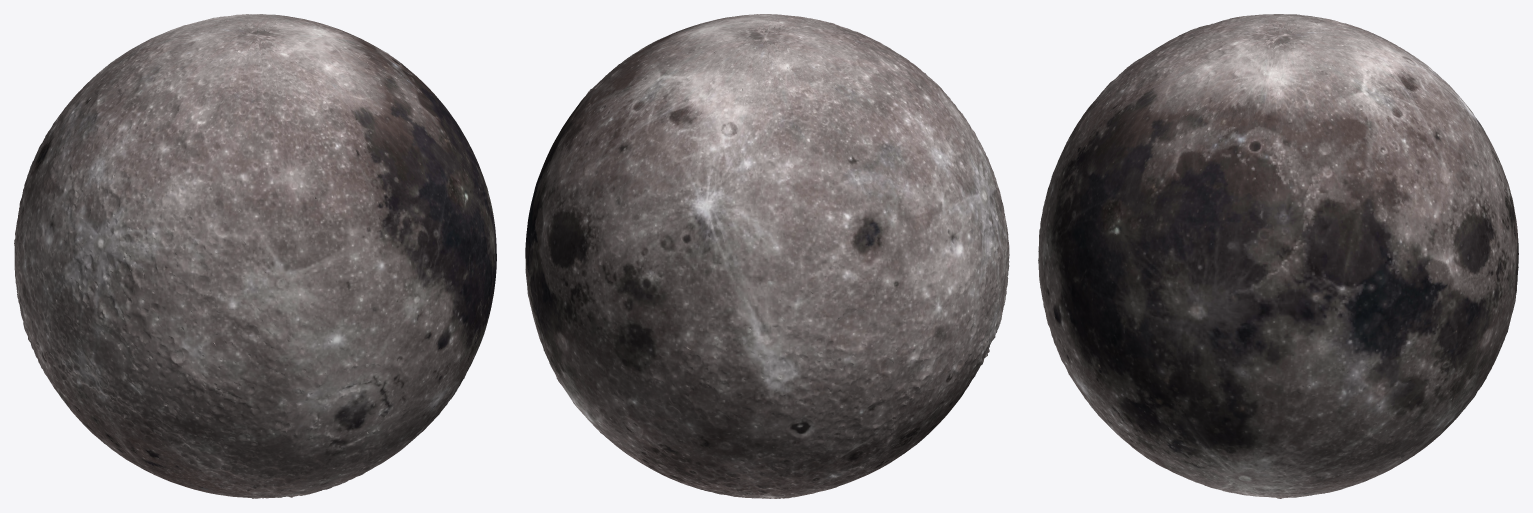
The model's file is moon_lro_web.glb.
3 renders of one model, left to right at view 1: azimuth 30°, elevation 25°; view 2: azimuth 150°, elevation 25°; view 3: azimuth 270°, elevation 25°, orthographic.
Visible parts, largest first — view 1: Sphere; view 2: Sphere; view 3: Sphere.
Part boxes in pixels (x1,y1,x2,y2): Sphere: (14, 14, 496, 498); Sphere: (525, 14, 1009, 498); Sphere: (1038, 14, 1518, 498).
Size of the model in its own units: 1.93 by 1.94 by 1.92.
1 material, 1 textured.
